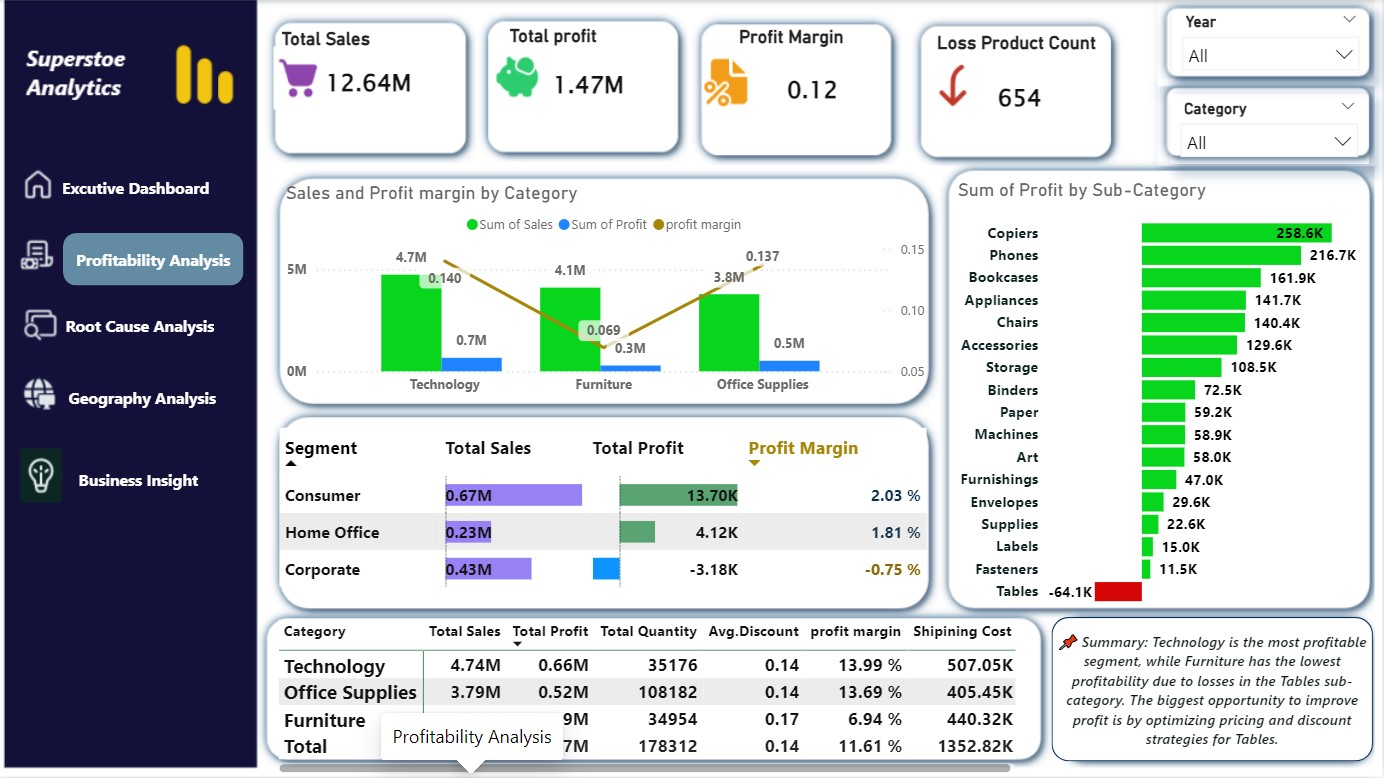

The dashboard page shown, as its layout file describes it:
{"tool":"powerbi","page":{"name":"Profitability Analysis","canvas":[1280,720],"ordinal":1},"visuals":[{"type":"shape","box":[21.2,151.4,209,46.9],"z":0},{"type":"shape","box":[27.3,278.6,202.9,46.9],"z":1000},{"type":"shape","box":[21.2,345.2,221.1,46.9],"z":2000},{"type":"shape","box":[25.7,420.9,202.9,45.4],"z":3000},{"type":"shape","box":[57.5,216.5,166.6,48.5],"z":4000},{"type":"cardVisual","title":"Loss Product Count","fields":{"Data":["measuress.loss product count"]},"box":[860.1,30.3,163.5,103],"z":5000},{"type":"slicer","fields":{"Values":["Date.Year"]},"box":[1081.7,6.7,183.3,65],"z":6000},{"type":"slicer","fields":{"Values":["Dim_product.Category"]},"box":[1080,86.7,183.3,65],"z":7000},{"type":"clusteredBarChart","fields":{"Y":["Sum(Fact_sales.Profit)"],"Category":["Dim_product.Sub-Category"]},"box":[879.8,166.6,399.8,402.8],"z":8000},{"type":"lineClusteredColumnComboChart","title":"Sales and Profit margin by Category","fields":{"Y":["Sum(Fact_sales.Sales)","Sum(Fact_sales.Profit)"],"Category":["Dim_product.Category"],"Y2":["measuress.profit margin"]},"box":[258.9,169.6,601.1,204.4],"z":9000},{"type":"pivotTable","fields":{"Rows":["Dim_product.Category"],"Values":["Sum(Fact_sales.Sales)","Sum(Fact_sales.Profit)","Sum(Fact_sales.Quantity)","Avg(Fact_sales.Discount)","measuress.profit margin","Sum(Fact_sales.Shipping Cost)"]},"box":[251.7,568.3,690,151.7],"z":10000},{"type":"tableEx","fields":{"Values":["Dim_customer.Segment","Sum(Fact_sales.Sales)","Sum(Fact_sales.Profit)","measuress.profit margin"]},"box":[251.7,390,610,178.3],"z":11000},{"type":"cardVisual","title":"Profit Margin","fields":{"Data":["Avg(Fact_sales.Profit)"]},"box":[676.7,25,146.7,96.7],"z":12000},{"type":"cardVisual","title":"Total Sales","fields":{"Data":["measuress.total sales"]},"box":[255,26.7,171.7,83.3],"z":13000},{"type":"cardVisual","title":"Total profit","fields":{"Data":["measuress.total profit"]},"box":[465,23.3,156.7,91.7],"z":14000},{"type":"shape","box":[970.6,570.9,296.8,133.3],"z":15000}]}

Visuals, with their boxes on the page's 1280x720 design canvas (x1, y1, x2, y2). These are canvas units, not pixel positions in the 1384x778 screenshot, which may show the page scaled, cropped or inside an application window:
shape: box(21, 151, 230, 198)
shape: box(27, 279, 230, 326)
shape: box(21, 345, 242, 392)
shape: box(26, 421, 229, 466)
shape: box(58, 216, 224, 265)
"Loss Product Count" cardVisual: box(860, 30, 1024, 133)
slicer - Date.Year: box(1082, 7, 1265, 72)
slicer - Dim_product.Category: box(1080, 87, 1263, 152)
clusteredBarChart - Sum(Fact_sales.Profit) x Dim_product.Sub-Category: box(880, 167, 1280, 569)
"Sales and Profit margin by Category" lineClusteredColumnComboChart: box(259, 170, 860, 374)
pivotTable - Dim_product.Category x Sum(Fact_sales.Sales): box(252, 568, 942, 720)
tableEx - Dim_customer.Segment x Sum(Fact_sales.Sales): box(252, 390, 862, 568)
"Profit Margin" cardVisual: box(677, 25, 823, 122)
"Total Sales" cardVisual: box(255, 27, 427, 110)
"Total profit" cardVisual: box(465, 23, 622, 115)
shape: box(971, 571, 1267, 704)
